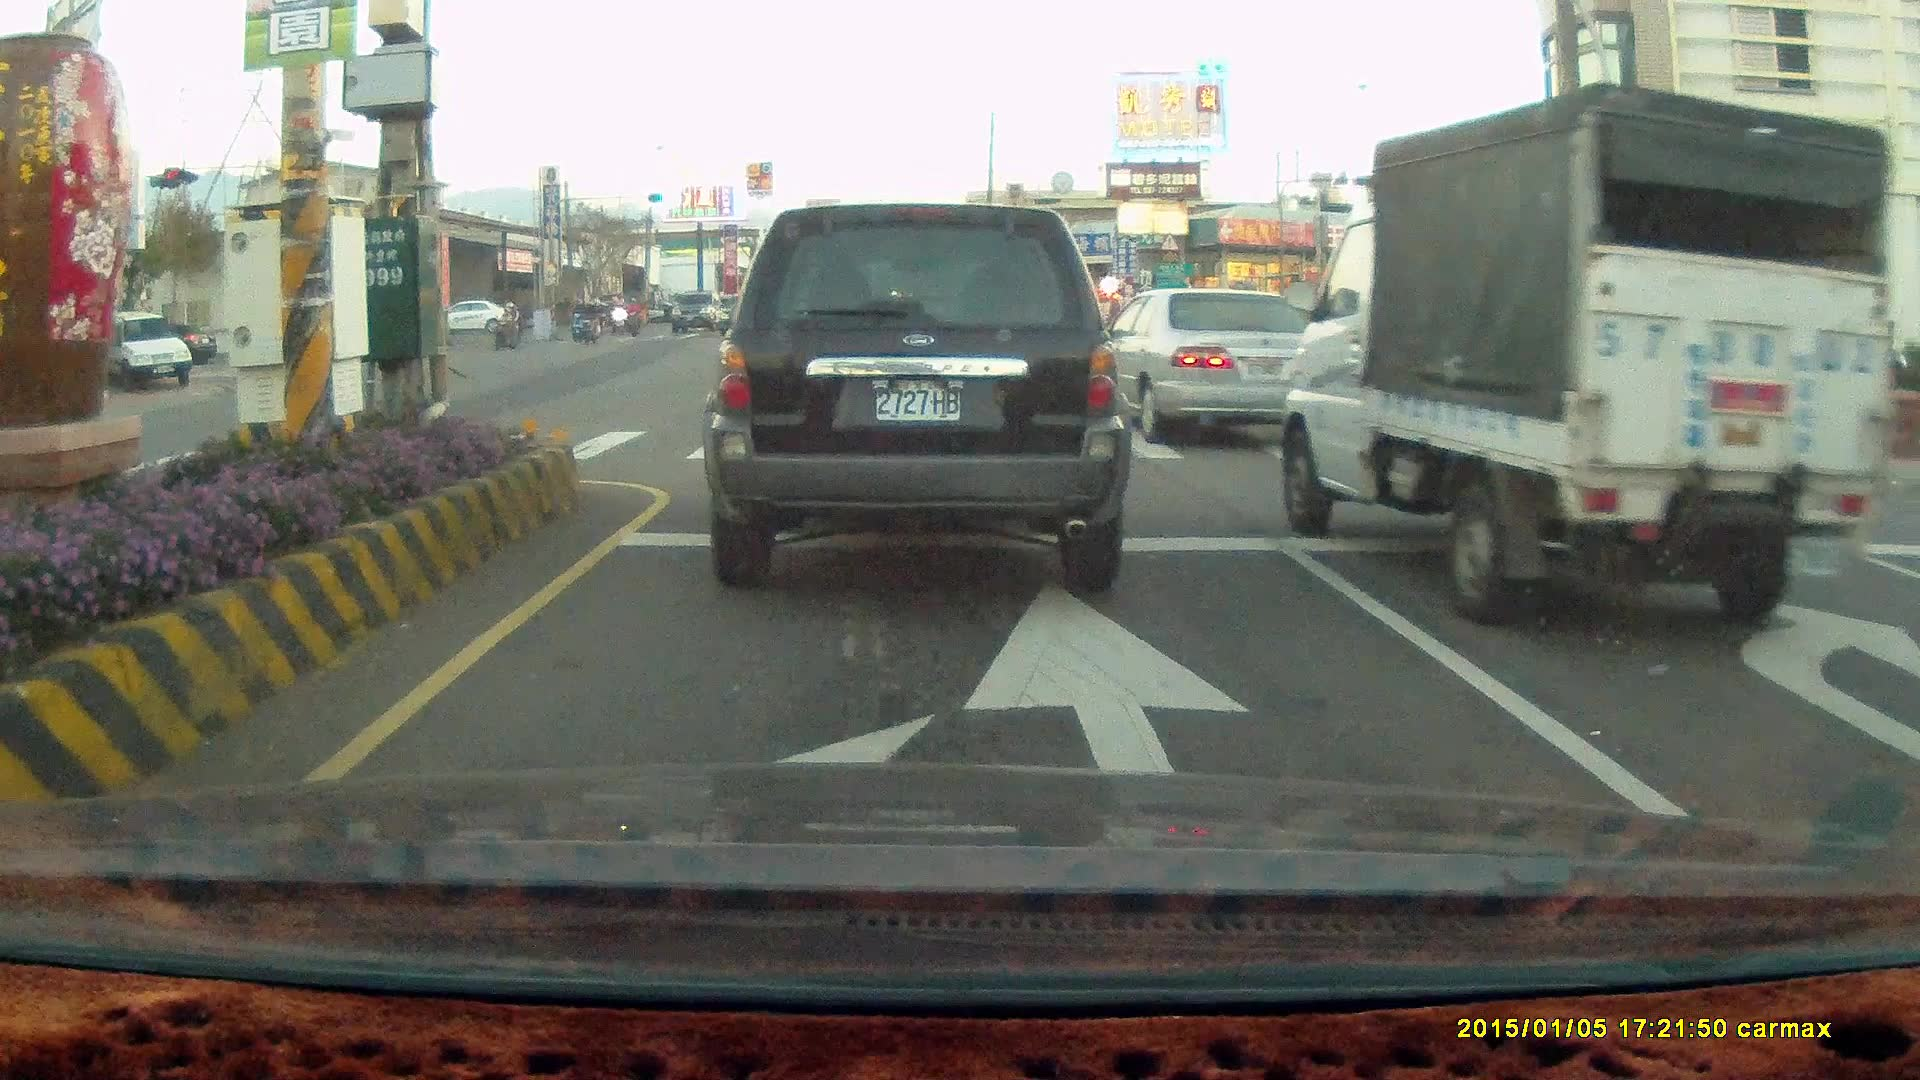rider: (491, 298, 525, 346), (576, 293, 604, 345), (568, 292, 590, 341), (623, 293, 643, 335)
vehicle: (1281, 79, 1891, 631), (697, 199, 1132, 595), (1090, 281, 1349, 442), (1095, 286, 1342, 451), (1699, 285, 1856, 373), (93, 312, 196, 390), (448, 300, 511, 336)
